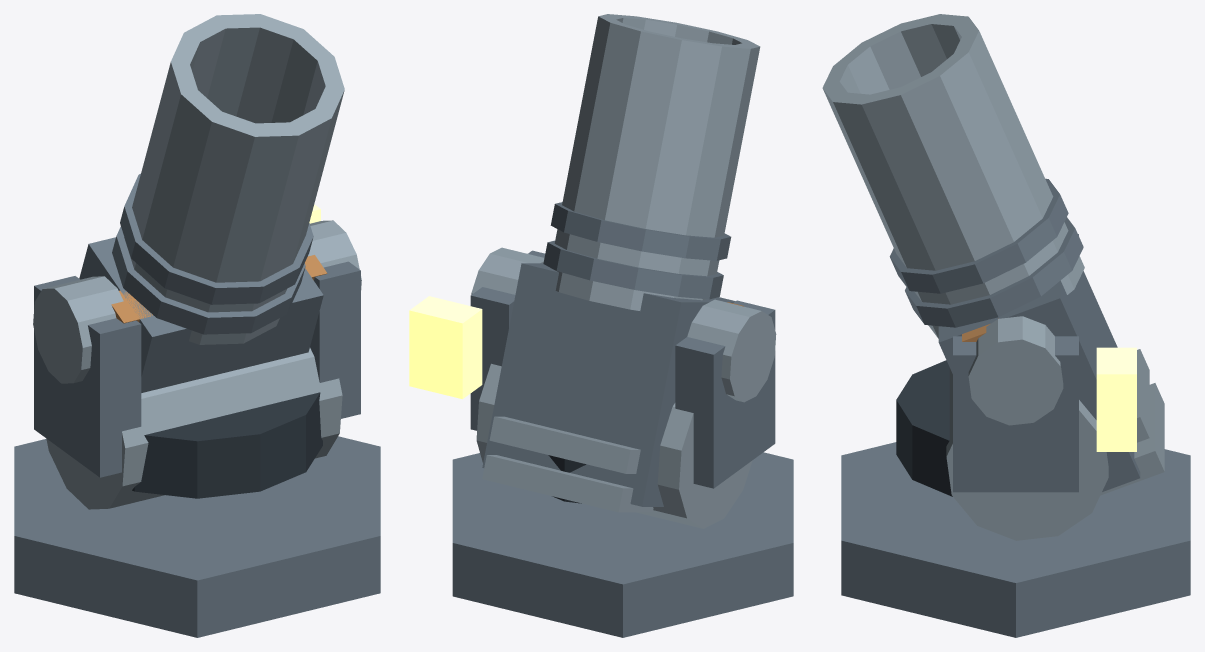
The model's file is mortar_t1.glb.
3 views of the same model, side by side, from view 1: azimuth 30°, elevation 25°; view 2: azimuth 150°, elevation 25°; view 3: azimuth 270°, elevation 25° (orthographic). The views are drawn at different scales.
Visible parts, largest first — view 1: Ground plinth, Mortar tube wall, Cradle (×2), Bearing, Autoloader drum, Pressure jacket (×2), Breech, Elevation motor (×2), Feed guide; view 2: Ground plinth, Mortar tube wall, Breech, Cradle (×2), Pressure jacket (×2), Capacitor (×2), Elevation motor (×2), Autoloader drum, Range radar; view 3: Ground plinth, Mortar tube wall, Cradle, Pressure jacket (×2), Elevation motor, Autoloader drum, Breech, Bearing, Range radar, Capacitor (×2).
Boxes of the visible parts, x1,y1,x2,y2 form: Ground plinth: (14, 436, 380, 637); Mortar tube wall: (124, 14, 344, 344); Cradle (×2): (34, 261, 360, 477); Bearing: (132, 392, 322, 498); Autoloader drum: (46, 348, 342, 509); Pressure jacket (×2): (112, 173, 313, 334); Breech: (79, 237, 323, 392); Elevation motor (×2): (33, 220, 361, 383); Feed guide: (111, 290, 152, 323); Ground plinth: (452, 452, 793, 637); Mortar tube wall: (551, 14, 760, 310); Breech: (482, 263, 735, 506); Cradle (×2): (470, 250, 775, 488); Pressure jacket (×2): (543, 202, 731, 299); Capacitor (×2): (482, 416, 653, 512); Elevation motor (×2): (471, 247, 776, 402); Autoloader drum: (476, 363, 752, 528); Range radar: (409, 296, 482, 399); Ground plinth: (841, 442, 1190, 637); Mortar tube wall: (822, 14, 1084, 338); Cradle: (953, 336, 1078, 492); Pressure jacket (×2): (889, 178, 1083, 327); Elevation motor: (968, 316, 1063, 425); Autoloader drum: (946, 368, 1108, 540); Breech: (938, 271, 1140, 491); Bearing: (896, 360, 952, 496); Range radar: (1096, 347, 1136, 451); Capacitor (×2): (1100, 349, 1164, 495).
Size of the model in its own units: 1.6 by 2.29 by 1.46.
